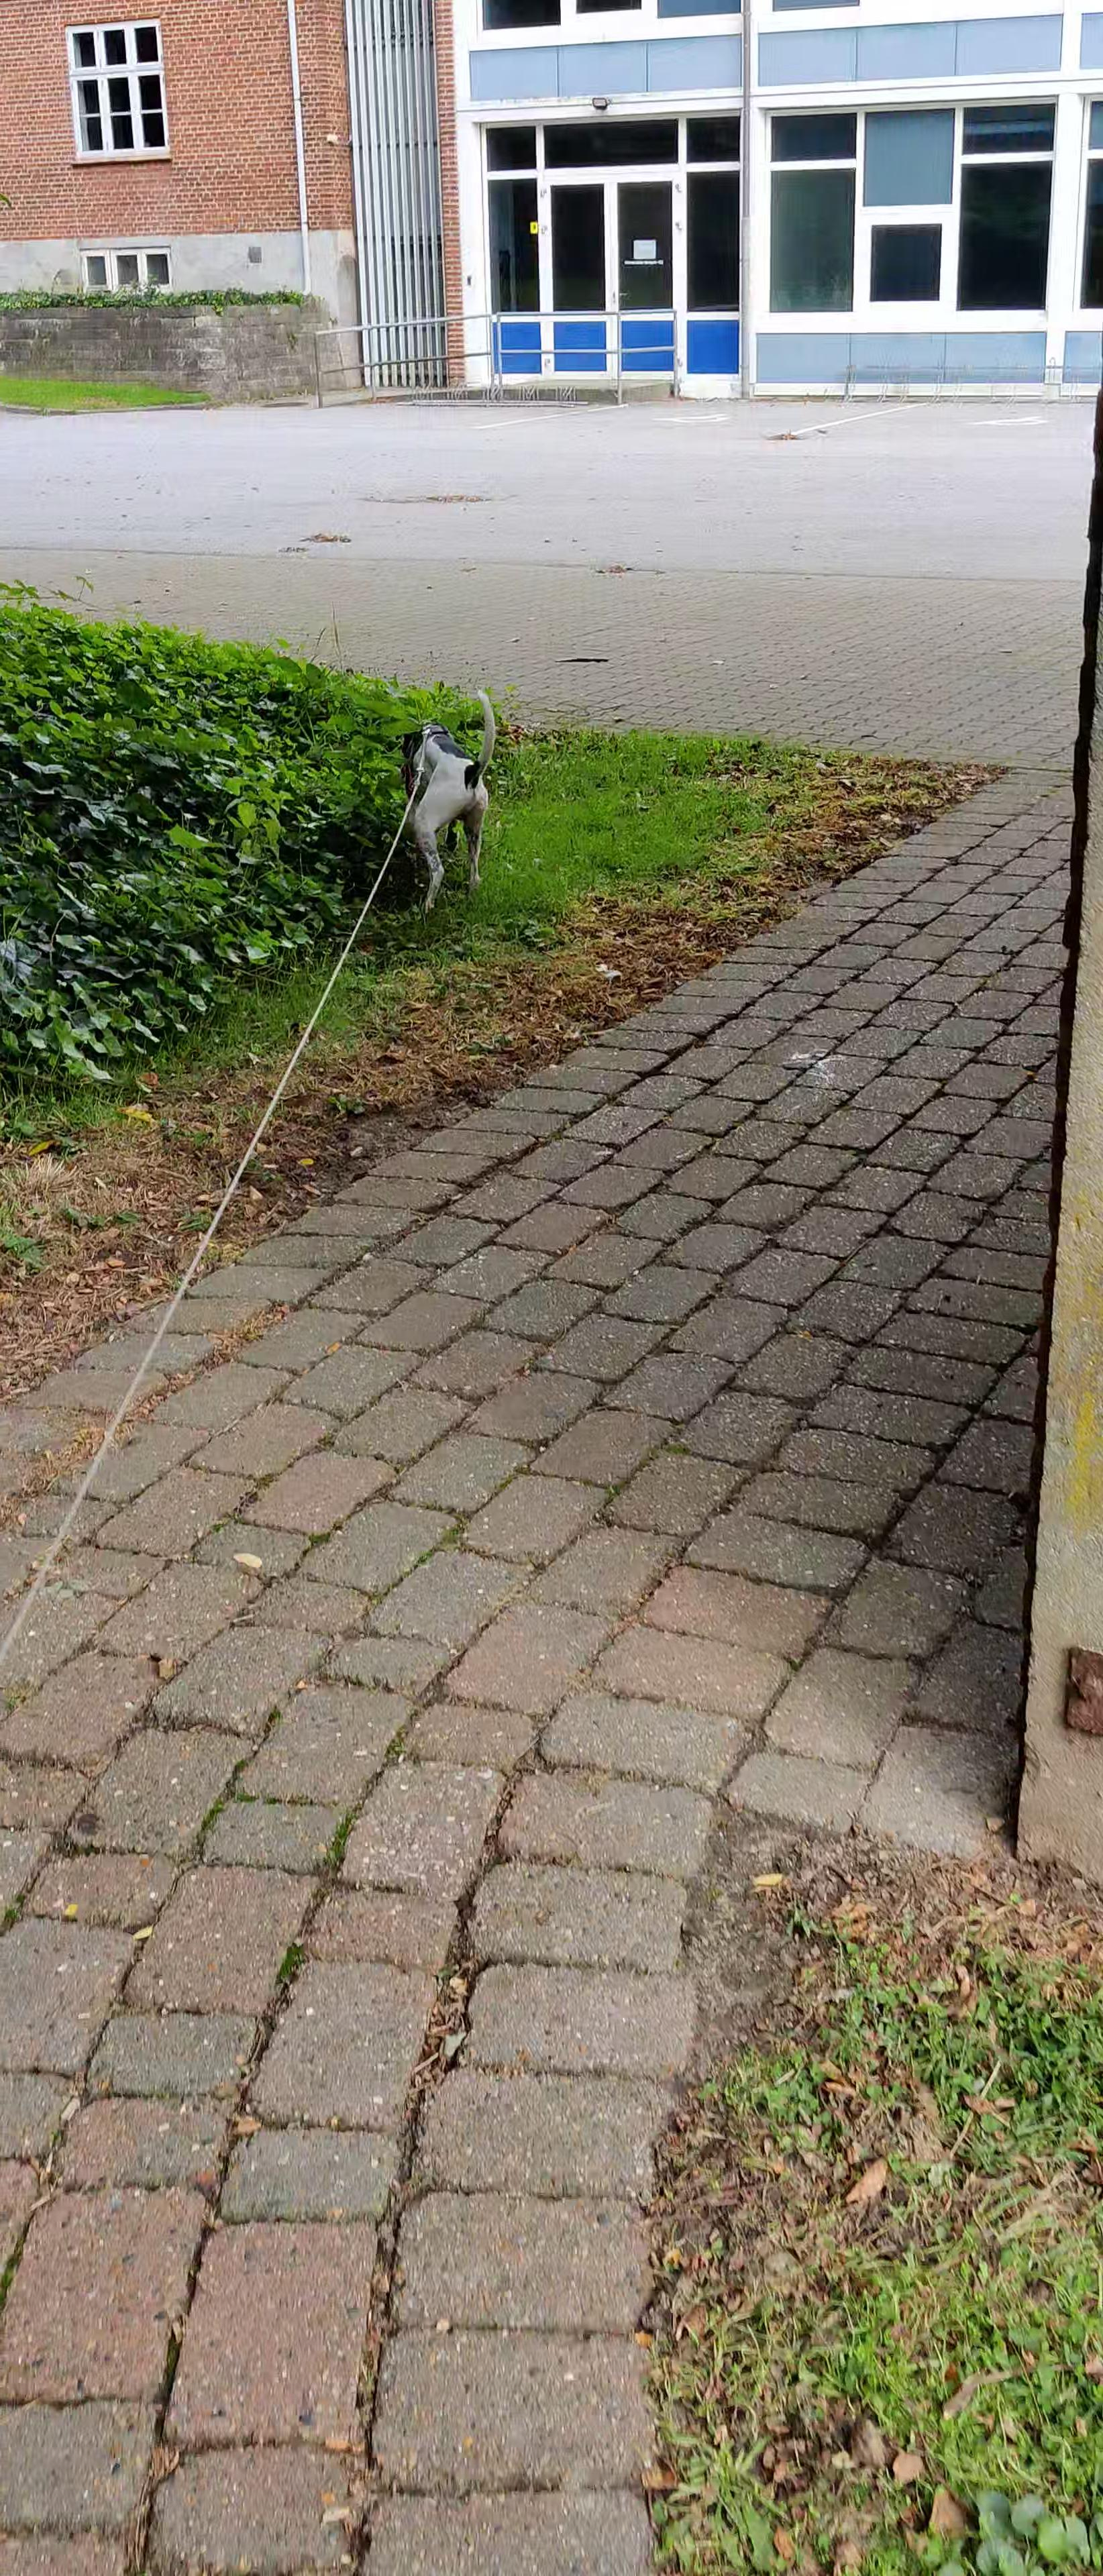Dog: (390, 680, 500, 913)
